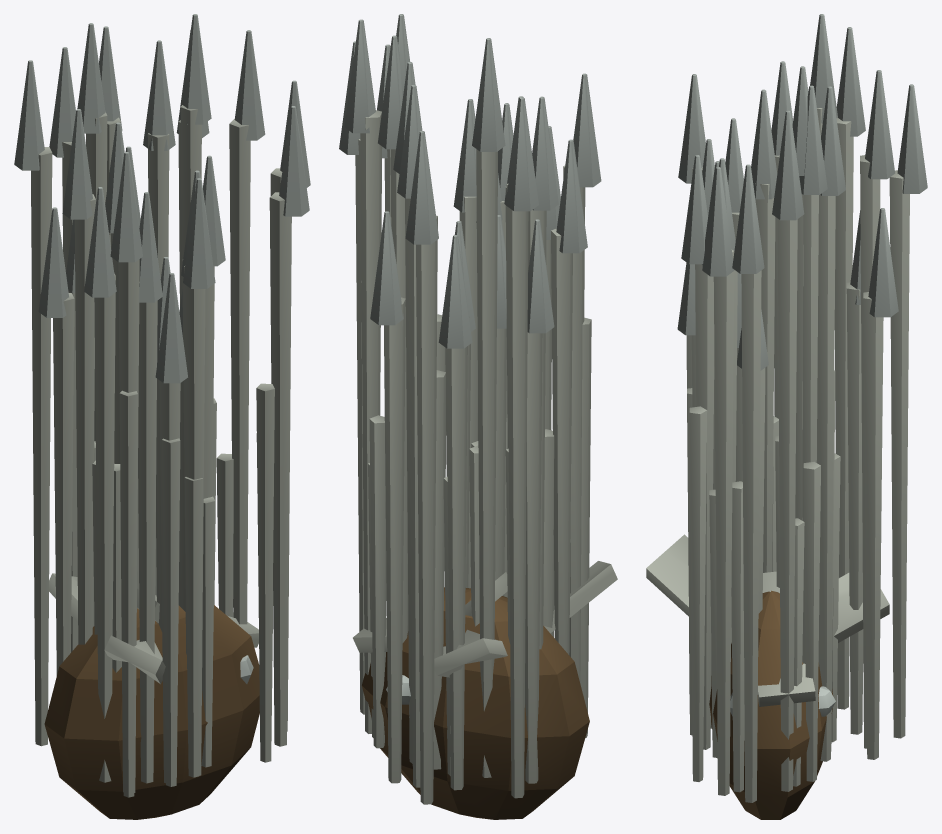
File: crop_moon_rice.glb
The picture shows the model from 3 angles, left to right: view 1: azimuth 30°, elevation 25°; view 2: azimuth 150°, elevation 25°; view 3: azimuth 270°, elevation 25°; orthographic projection. The views are drawn at different scales.
Visible parts, largest first — view 1: seed_mound, stem.009, stem.022, stem, stem.015, stem.013, stem.011, stem.010, stem2.010, stem2.014, stem2.011, stem2.012 (+37 smaller); view 2: seed_mound, stem.009, stem.006, stem.008, stem.004, stem.007, stem.013, stem, stem.010, stem2.001, stem.014, stem.005 (+38 smaller); view 3: stem, stem.006, stem.023, stem.022, seed_mound, stem.003, stem.004, stem.009, stem.007, stem2.014, stem.018, stem.002 (+38 smaller).
Part boxes in pixels (x1,y1,x2,y2): seed_mound: (44, 605, 259, 819); stem.009: (31, 147, 52, 746); stem.022: (269, 192, 291, 746); stem: (229, 119, 250, 624); stem.015: (138, 300, 157, 783); stem.013: (94, 273, 115, 782); stem.011: (74, 194, 96, 644); stem.010: (53, 293, 74, 675); stem2.010: (119, 390, 137, 797); stem2.014: (256, 383, 274, 762); stem2.011: (162, 438, 180, 786); stem2.012: (184, 477, 202, 777); seed_mound: (362, 587, 589, 819); stem.009: (506, 183, 528, 798); stem.006: (416, 215, 437, 804); stem.008: (476, 149, 497, 777); stem.004: (384, 297, 405, 783); stem.007: (446, 346, 467, 790); stem.013: (551, 228, 572, 654); stem: (360, 110, 382, 733); stem.010: (525, 332, 542, 783); stem2.001: (369, 415, 386, 748); stem.014: (563, 165, 585, 682); stem.005: (408, 198, 420, 787); stem: (777, 219, 797, 791); stem.006: (889, 170, 909, 738); stem.023: (741, 270, 761, 802); stem.022: (714, 249, 734, 795); seed_mound: (709, 590, 833, 819); stem.003: (817, 195, 835, 761); stem.004: (863, 292, 883, 759); stem.009: (834, 118, 853, 709); stem.007: (846, 282, 863, 734); stem2.014: (689, 406, 707, 781); stem.018: (695, 264, 714, 749); stem.002: (802, 195, 818, 663).
Size of the model in its own units: 0.3407 by 1.06 by 0.3481.
